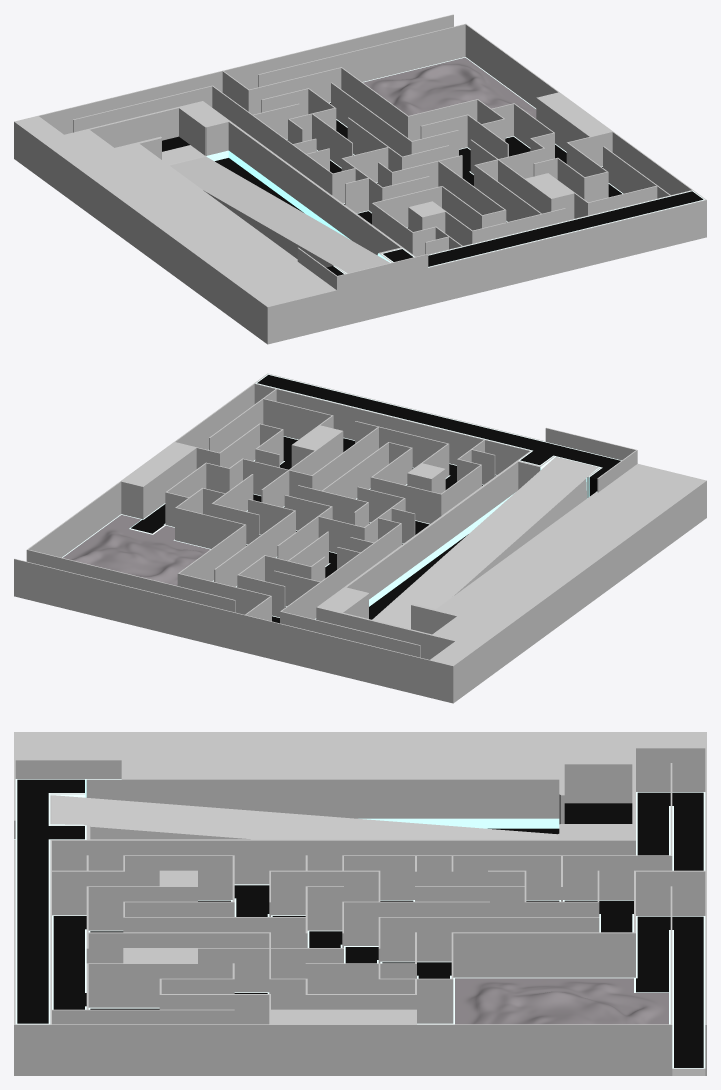
Rendered from LevelTwoMaze.fbx.
3 views of the same model, one above another, from view 1: azimuth 30°, elevation 25°; view 2: azimuth 150°, elevation 25°; view 3: azimuth 270°, elevation 25° (orthographic). The views are drawn at different scales.
Visible parts, largest first — view 1: Plane; view 2: Plane; view 3: Plane.
Boxes of the visible parts, x1=… form: Plane: x1=14, y1=14, x2=706, y2=344; Plane: x1=14, y1=373, x2=706, y2=703; Plane: x1=14, y1=732, x2=706, y2=1075.
Size of the model in its own units: 37.99 by 4.21 by 37.99.
